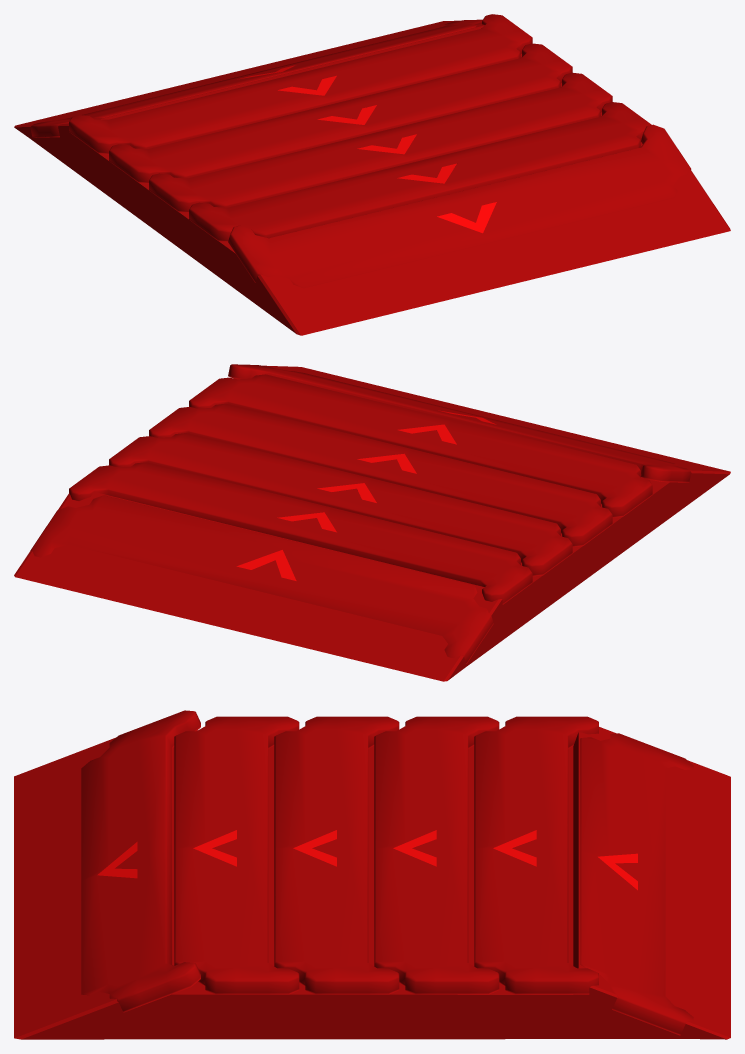
Rendered from slow-pad.glb.
3 views of the same model, one above another, from view 1: azimuth 30°, elevation 25°; view 2: azimuth 150°, elevation 25°; view 3: azimuth 270°, elevation 25° (orthographic). The views are drawn at different scales.
Visible parts, largest first — view 1: Slow Pad; view 2: Slow Pad; view 3: Slow Pad.
Part boxes in pixels (left/top/right/bottom): Slow Pad: left=14, top=14, right=730, bottom=335; Slow Pad: left=14, top=364, right=730, bottom=681; Slow Pad: left=14, top=710, right=730, bottom=1039.
Size of the model in its own units: 2.02 by 0.245 by 2.32.
